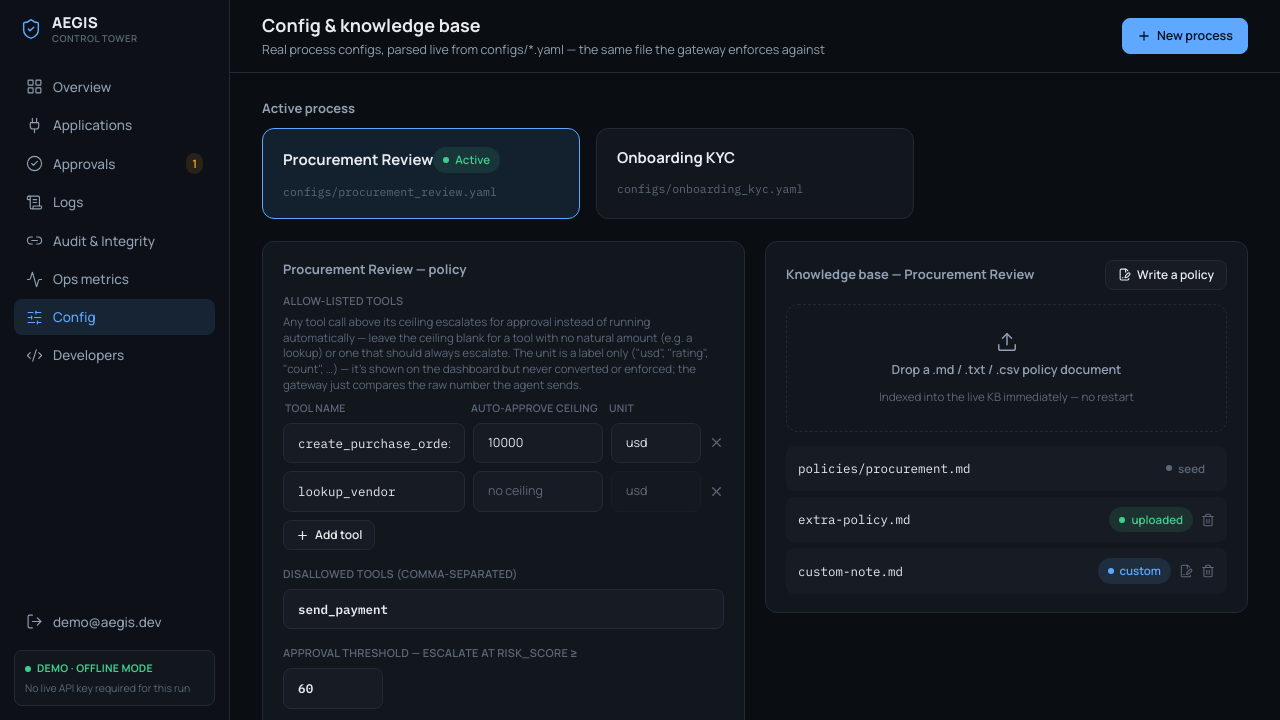
Test: ConfigPage › lists processes and switches active process
This screenshot has width=1280, height=720.
Expected: the text "Procurement Review" is shown, [283,149,433,171]
Expected: the 1st field showing "create_purchase_order" is shown, [283,423,465,463]
Click the text "Onboarding KYC" at (676, 159), box [617,147,735,170]
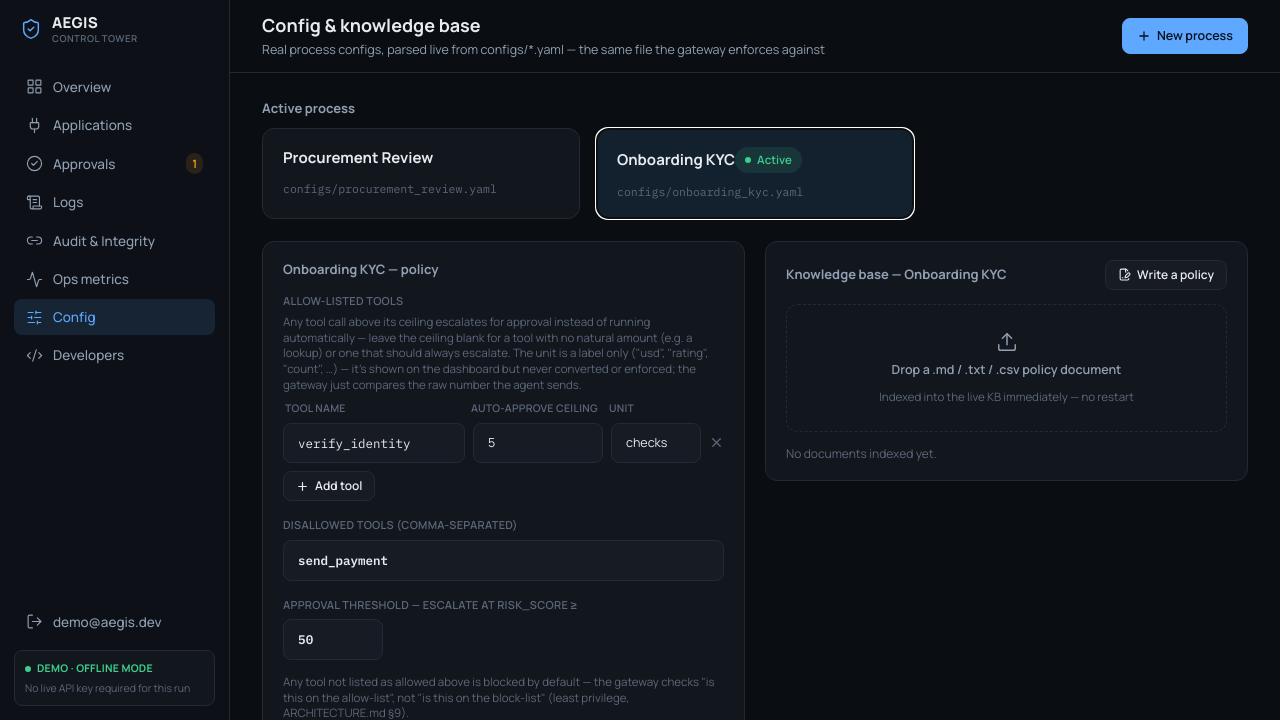
Expected: the 1st field showing "verify_identity" is shown, [283,423,465,463]
Expected: the text "No documents indexed yet." is shown, [786,445,937,462]
